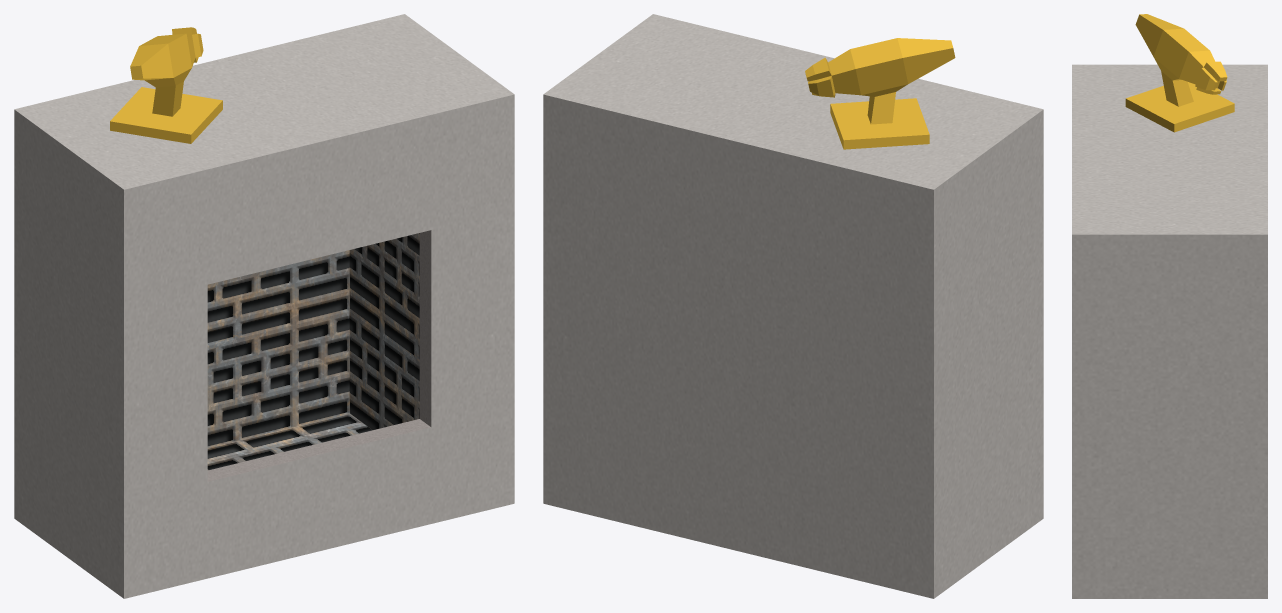
Rendered from Hearth.fbx.
The picture shows the model from 3 angles, left to right: view 1: azimuth 30°, elevation 25°; view 2: azimuth 150°, elevation 25°; view 3: azimuth 270°, elevation 25°; orthographic projection. The views are drawn at different scales.
Parts seen in each view (by area): view 1: Cube, Cube.001; view 2: Cube, Cube.001; view 3: Cube, Cube.001.
Part boxes in pixels (x1,y1,x2,y2): Cube: (14, 14, 514, 598); Cube.001: (110, 27, 222, 143); Cube: (543, 14, 1043, 598); Cube.001: (805, 38, 955, 149); Cube: (1072, 64, 1267, 598); Cube.001: (1125, 14, 1234, 132).
Size of the model in its own units: 138 by 167 by 67.38.
Materials: 1 (1 with a texture image).
